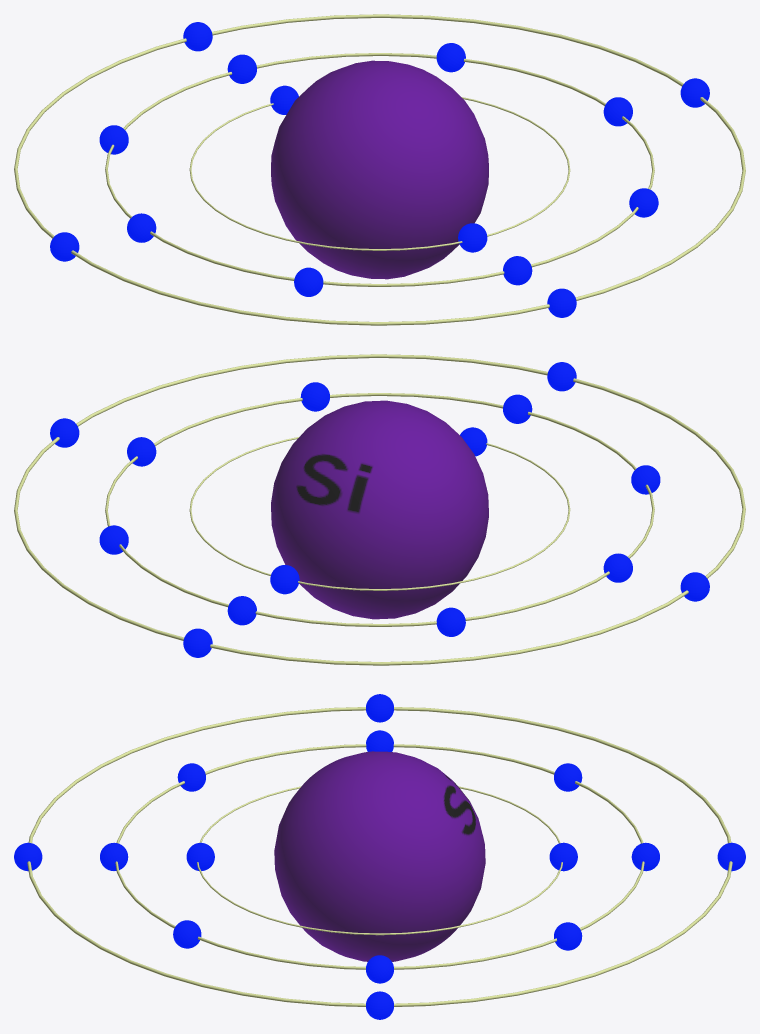
3 views of the same model, one above another, from view 1: azimuth 30°, elevation 25°; view 2: azimuth 150°, elevation 25°; view 3: azimuth 270°, elevation 25° (orthographic). The views are drawn at different scales.
Visible parts, largest first — view 1: 球体, 贝塞尔圆环.002, 贝塞尔圆环.001, 贝塞尔圆环, 球体.008, 球体.012, 球体.004, 球体.003, 球体.009, 球体.006, 球体.002, 球体.007 (+6 smaller); view 2: 球体, 贝塞尔圆环.002, 贝塞尔圆环.001, 贝塞尔圆环, 球体.001, 球体.005, 球体.003, 球体.012, 球体.010, 球体.007, 球体.006, 球体.009 (+6 smaller); view 3: 球体, 贝塞尔圆环.002, 贝塞尔圆环.001, 贝塞尔圆环, 球体.013, 球体.014, 球体.010, 球体.011, 球体.002, 球体.001, 球体.004, 球体.008 (+5 smaller).
Boxes of the visible parts, box(x1,y1,x2,y2) form: 球体: box(271, 60, 488, 279); 贝塞尔圆环.002: box(14, 14, 745, 325); 贝塞尔圆环.001: box(105, 53, 654, 286); 贝塞尔圆环: box(189, 97, 570, 250); 球体.008: box(294, 267, 323, 296); 球体.012: box(547, 288, 576, 317); 球体.004: box(458, 223, 487, 252); 球体.003: box(183, 22, 212, 51); 球体.009: box(503, 256, 532, 285); 球体.006: box(127, 213, 156, 242); 球体.002: box(436, 43, 465, 72); 球体.007: box(227, 54, 256, 83); 球体: box(271, 400, 488, 619); 贝塞尔圆环.002: box(14, 354, 745, 665); 贝塞尔圆环.001: box(105, 393, 654, 626); 贝塞尔圆环: box(189, 436, 570, 590); 球体.001: box(270, 565, 299, 594); 球体.005: box(436, 607, 465, 636); 球体.003: box(183, 628, 212, 657); 球体.012: box(547, 362, 576, 391); 球体.010: box(300, 382, 329, 411); 球体.007: box(227, 596, 256, 625); 球体.006: box(603, 553, 632, 582); 球体.009: box(503, 394, 532, 423); 球体: box(274, 751, 485, 961); 贝塞尔圆环.002: box(27, 707, 732, 1006); 贝塞尔圆环.001: box(115, 744, 644, 969); 贝塞尔圆环: box(197, 786, 562, 935); 球体.013: box(366, 694, 393, 722); 球体.014: box(366, 991, 393, 1019); 球体.010: box(173, 920, 201, 948); 球体.011: box(366, 955, 393, 983); 球体.002: box(554, 922, 582, 950); 球体.001: box(549, 842, 577, 871); 球体.004: box(186, 842, 214, 870); 球体.008: box(177, 763, 205, 791).
Size of the model in its own units: 2.42 by 0.6996 by 2.42.
Materials: 6 (1 with a texture image).
